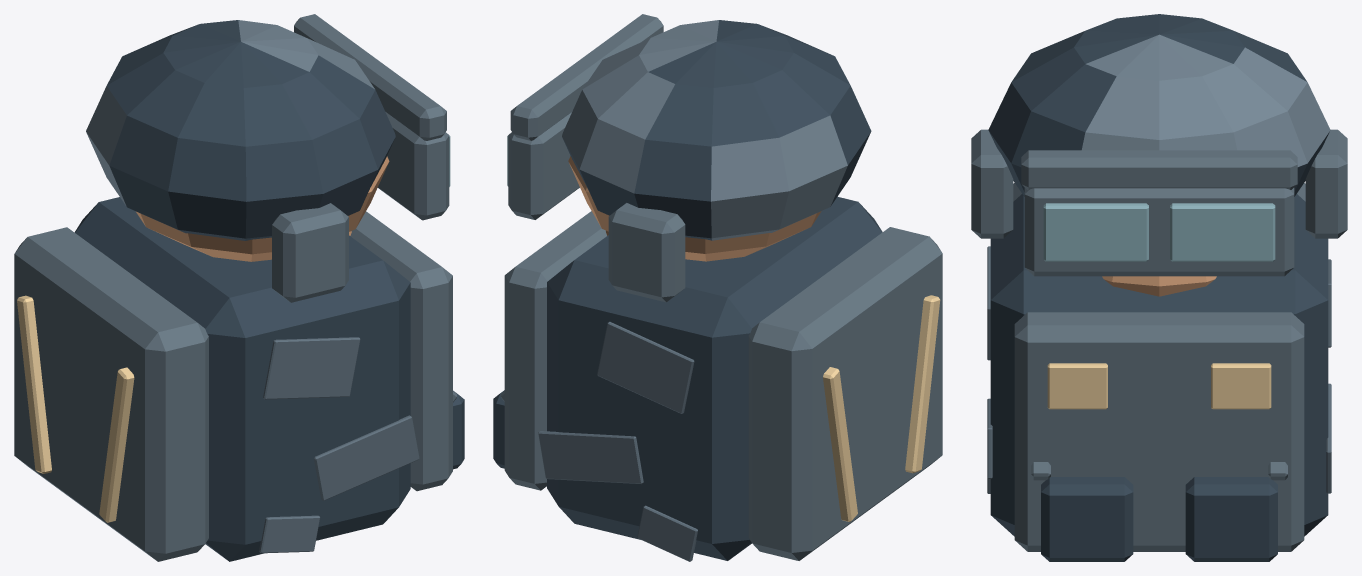
Rendered from desert-runner.carbon-camo.glb.
3 views of the same model, side by side, from view 1: azimuth 30°, elevation 25°; view 2: azimuth 150°, elevation 25°; view 3: azimuth 270°, elevation 25° (orthographic). The views are drawn at different scales.
Visible parts, largest first — view 1: desert-runner_carbon-camo__main__torso_finish_657682_0.03, desert-runner_carbon-camo__main__torso_finish_3c4d5b_0.03, desert-runner_carbon-camo__main__head_finish_3c4d5b_0.03|fin, desert-runner_carbon-camo__main__head_finish_657682_0.03, desert-runner_carbon-camo__main__torso_finish_60717e_0.03, desert-runner_carbon-camo__main__torso_finish_f0d3a1_0.03, desert-runner_carbon-camo__main__head_finish_d3a079_0.03; view 2: desert-runner_carbon-camo__main__torso_finish_657682_0.03, desert-runner_carbon-camo__main__torso_finish_3c4d5b_0.03, desert-runner_carbon-camo__main__head_finish_3c4d5b_0.03|fin, desert-runner_carbon-camo__main__head_finish_657682_0.03, desert-runner_carbon-camo__main__torso_finish_60717e_0.03, desert-runner_carbon-camo__main__torso_finish_f0d3a1_0.03, desert-runner_carbon-camo__main__head_finish_d3a079_0.03; view 3: desert-runner_carbon-camo__main__torso_finish_657682_0.03, desert-runner_carbon-camo__main__torso_finish_3c4d5b_0.03, desert-runner_carbon-camo__main__head_finish_3c4d5b_0.03|fin, desert-runner_carbon-camo__main__head_finish_657682_0.03, desert-runner_carbon-camo__main__head_finish_91b6c0_0.03, desert-runner_carbon-camo__main__torso_finish_f0d3a1_0.03, desert-runner_carbon-camo__main__torso_finish_60717e_0.03, desert-runner_carbon-camo__main__head_finish_d3a079_0.03.
Boxes of the visible parts, bbox=[...] form: desert-runner_carbon-camo__main__torso_finish_657682_0.03: bbox=[14, 211, 456, 561]; desert-runner_carbon-camo__main__torso_finish_3c4d5b_0.03: bbox=[74, 197, 464, 561]; desert-runner_carbon-camo__main__head_finish_3c4d5b_0.03|fin: bbox=[86, 20, 395, 240]; desert-runner_carbon-camo__main__head_finish_657682_0.03: bbox=[272, 14, 449, 302]; desert-runner_carbon-camo__main__torso_finish_60717e_0.03: bbox=[259, 337, 419, 553]; desert-runner_carbon-camo__main__torso_finish_f0d3a1_0.03: bbox=[17, 295, 134, 522]; desert-runner_carbon-camo__main__head_finish_d3a079_0.03: bbox=[136, 156, 389, 261]; desert-runner_carbon-camo__main__torso_finish_657682_0.03: bbox=[500, 211, 942, 560]; desert-runner_carbon-camo__main__torso_finish_3c4d5b_0.03: bbox=[493, 196, 882, 560]; desert-runner_carbon-camo__main__head_finish_3c4d5b_0.03|fin: bbox=[562, 20, 871, 240]; desert-runner_carbon-camo__main__head_finish_657682_0.03: bbox=[508, 14, 685, 302]; desert-runner_carbon-camo__main__torso_finish_60717e_0.03: bbox=[538, 321, 697, 561]; desert-runner_carbon-camo__main__torso_finish_f0d3a1_0.03: bbox=[823, 295, 940, 521]; desert-runner_carbon-camo__main__head_finish_d3a079_0.03: bbox=[568, 156, 821, 261]; desert-runner_carbon-camo__main__torso_finish_657682_0.03: bbox=[1013, 183, 1305, 551]; desert-runner_carbon-camo__main__torso_finish_3c4d5b_0.03: bbox=[990, 194, 1328, 561]; desert-runner_carbon-camo__main__head_finish_3c4d5b_0.03|fin: bbox=[988, 14, 1330, 196]; desert-runner_carbon-camo__main__head_finish_657682_0.03: bbox=[971, 129, 1347, 276]; desert-runner_carbon-camo__main__head_finish_91b6c0_0.03: bbox=[1043, 203, 1275, 261]; desert-runner_carbon-camo__main__torso_finish_f0d3a1_0.03: bbox=[1047, 363, 1271, 409]; desert-runner_carbon-camo__main__torso_finish_60717e_0.03: bbox=[987, 246, 1331, 493]; desert-runner_carbon-camo__main__head_finish_d3a079_0.03: bbox=[1102, 276, 1216, 296].
Bounding box in the file's own units: 31.1 × 39.5 × 28.6.
